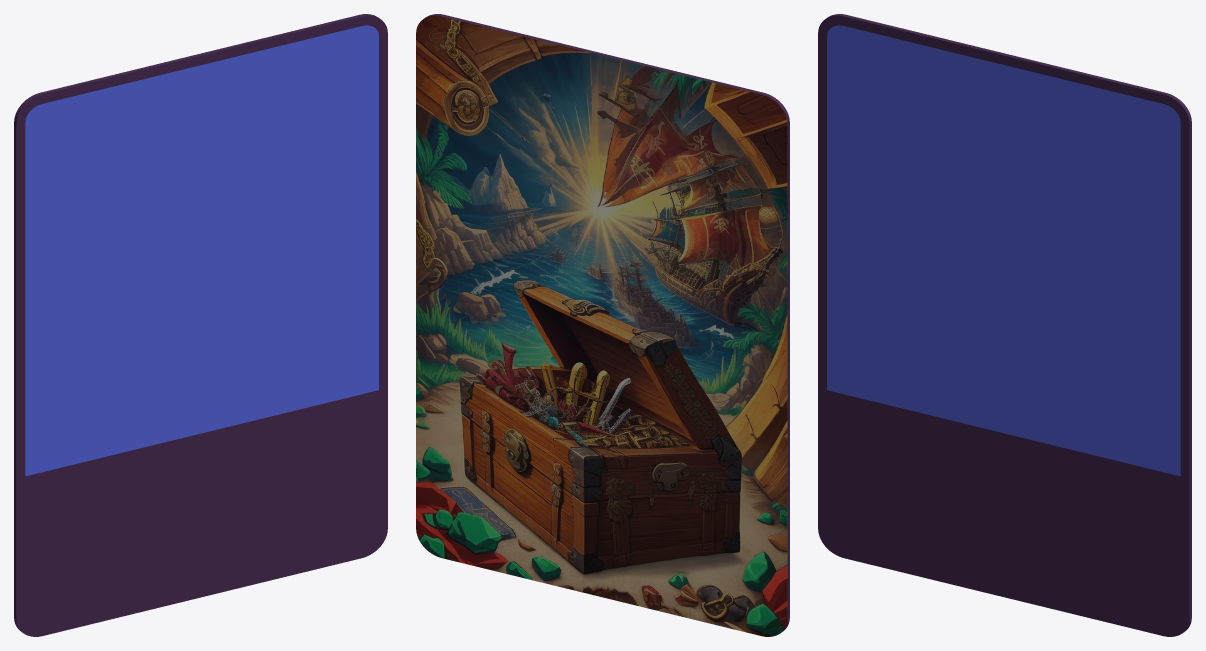
Rendered from card.glb.
The picture shows the model from 3 angles, left to right: view 1: azimuth 30°, elevation 25°; view 2: azimuth 150°, elevation 25°; view 3: azimuth 330°, elevation 25°; orthographic projection.
Parts seen in each view (by area): view 1: Card; view 2: Card; view 3: Card.
Part boxes in pixels (bbox=[...]): Card: bbox=[14, 14, 387, 636]; Card: bbox=[416, 14, 789, 636]; Card: bbox=[818, 14, 1191, 636].
Size of the model in its own units: 1 by 1.39 by 0.0109.
Materials: 3 (1 with a texture image).
